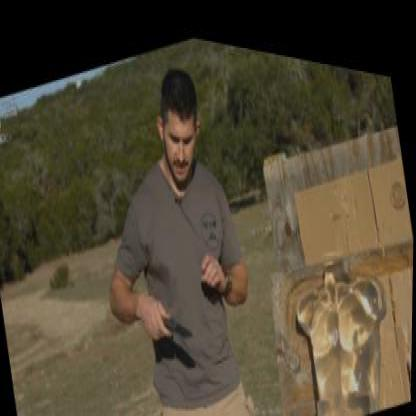knife: (138, 271, 197, 355)
